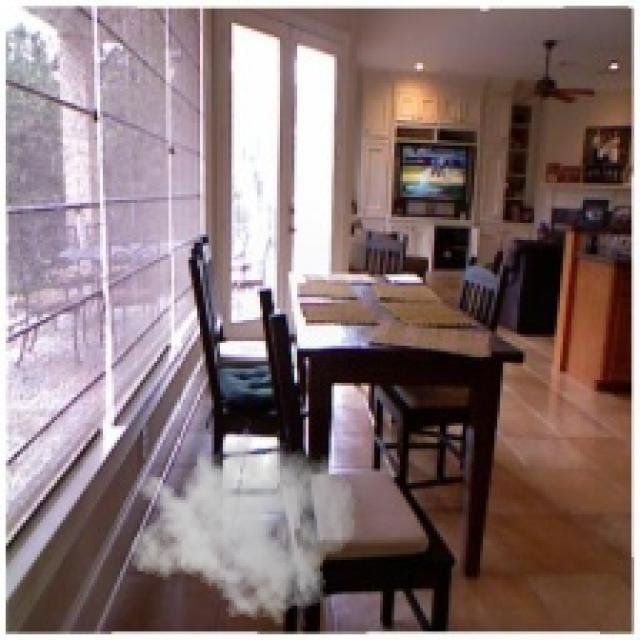Smoke: (128, 417, 358, 632)
